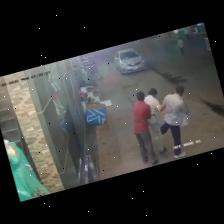person: (161, 86, 189, 158), (133, 92, 158, 165), (145, 89, 166, 154), (178, 37, 184, 56), (184, 27, 189, 40)
